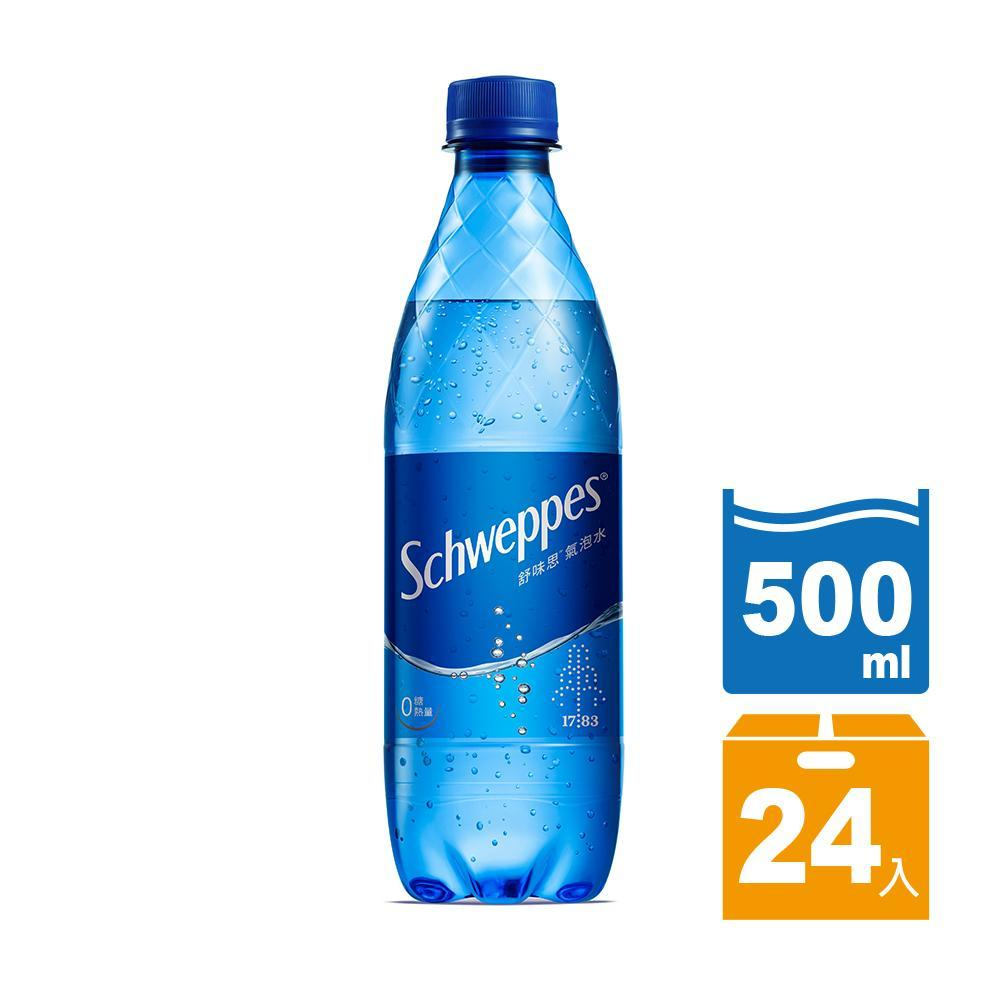bottle: (371, 74, 630, 906)
